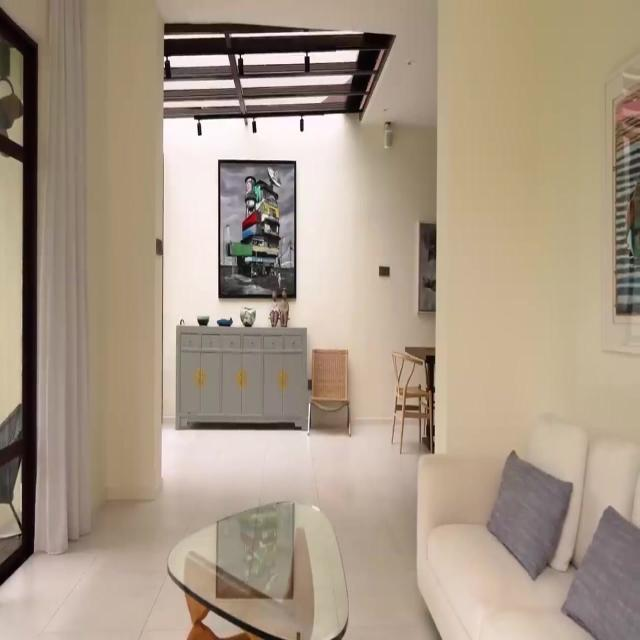obstacle: (416, 412, 640, 640), (166, 500, 350, 640), (308, 348, 350, 437), (404, 345, 436, 453)
